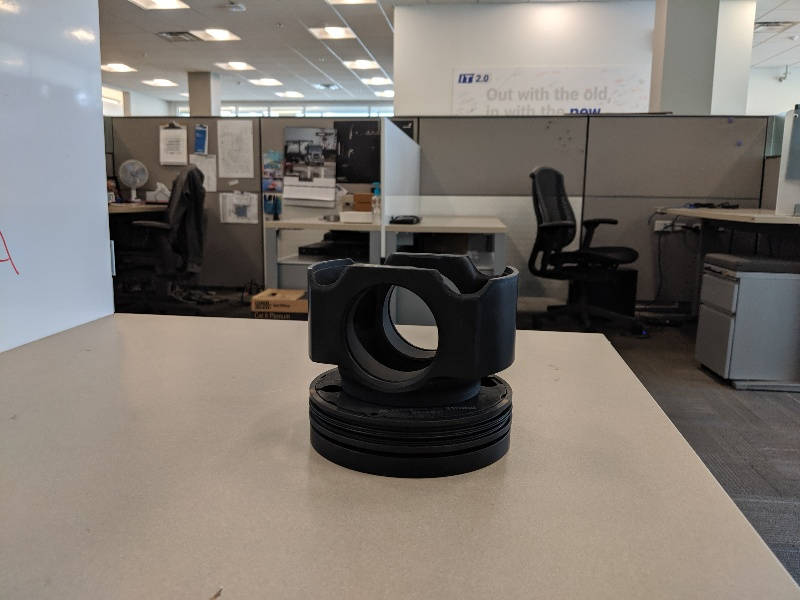piston: (300, 246, 527, 484)
